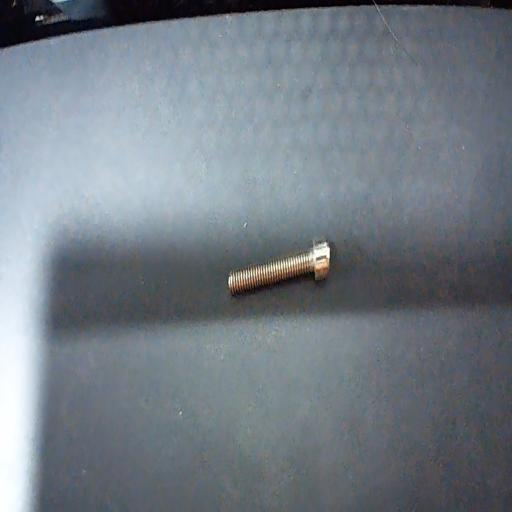screw: (227, 236, 331, 297)
